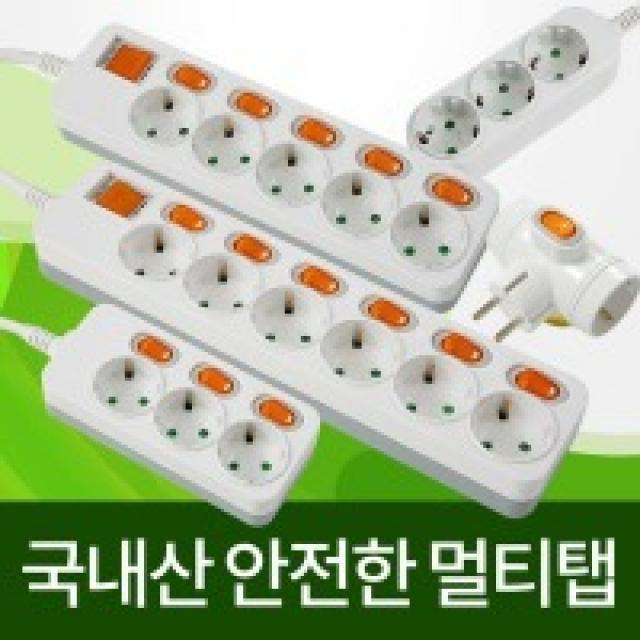typeb: (41, 12, 513, 287), (27, 292, 343, 542)
